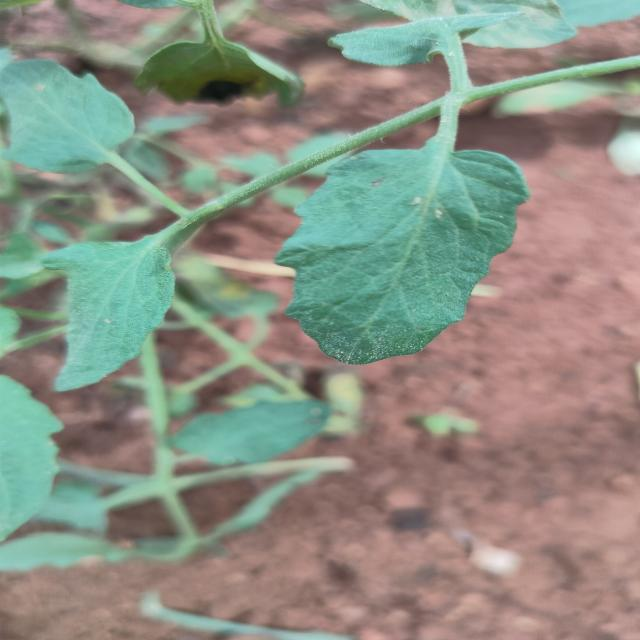tomato_healthy: (274, 133, 531, 366), (43, 224, 179, 394)
